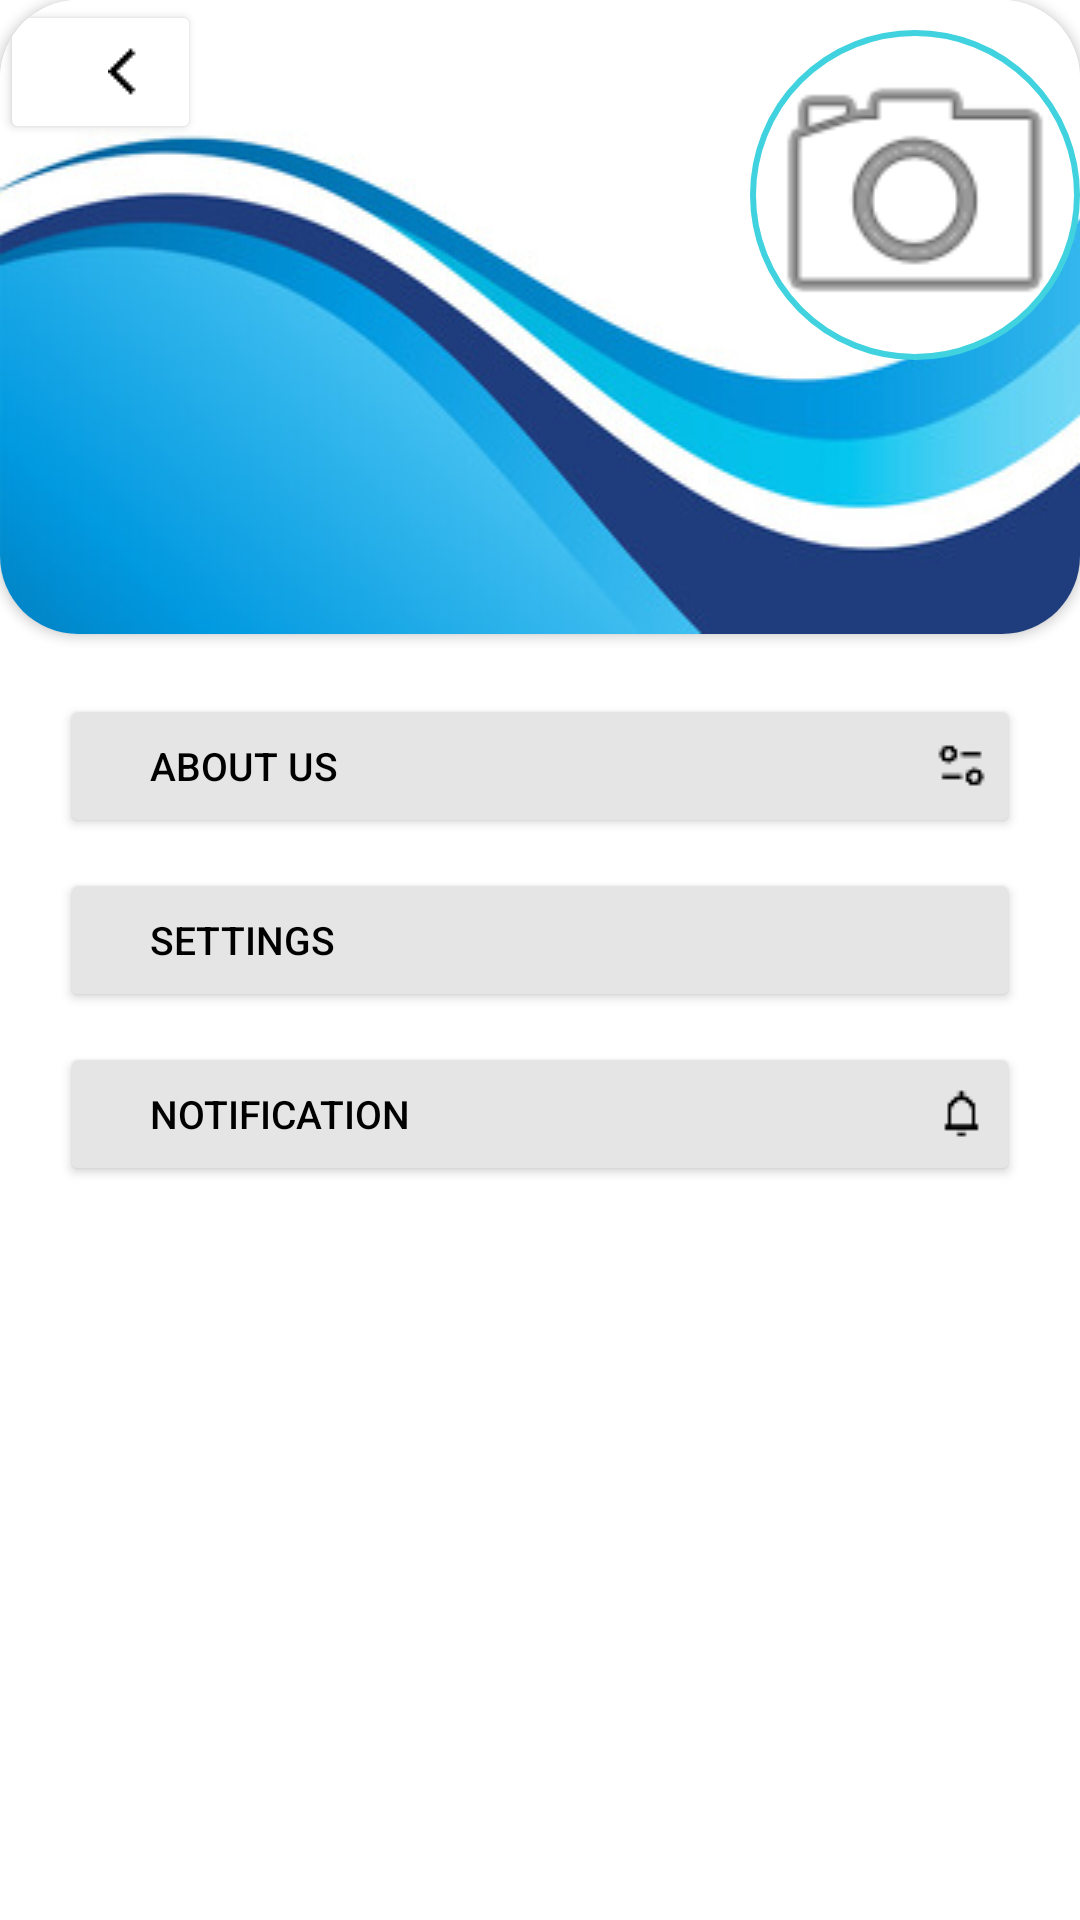

Named icons in this screenshot (1080px x 1920px) and their centers, (x=x, y=y):
camera: (x=915, y=190)
